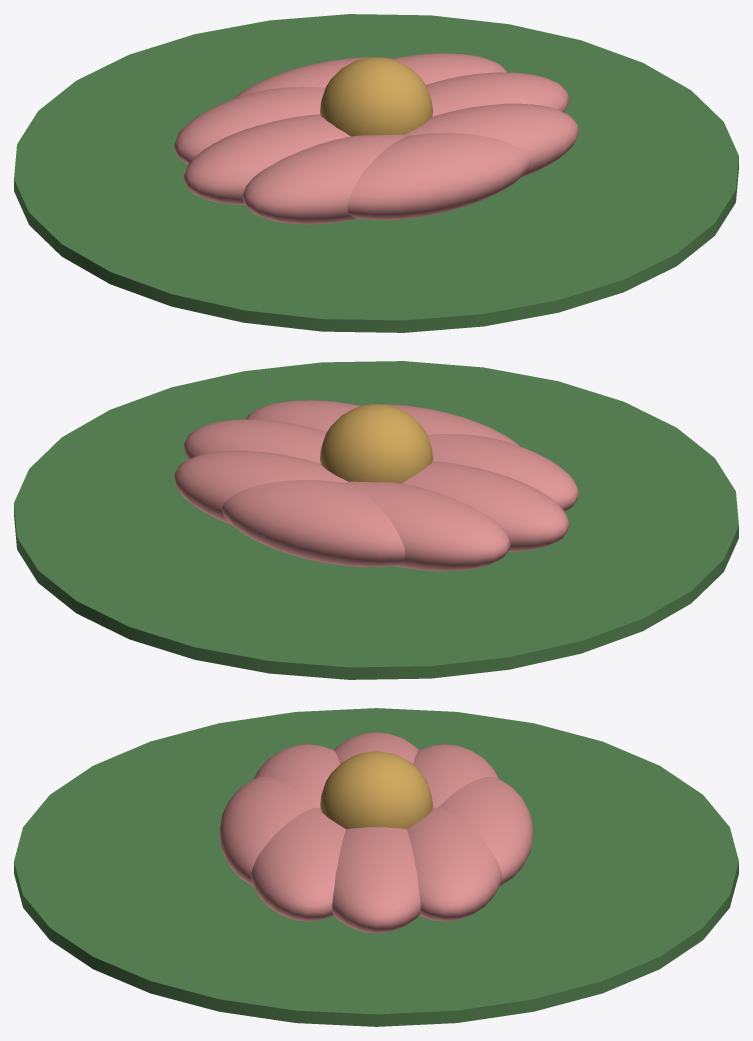
The model's file is wp-nenuphar.glb.
The picture shows the model from 3 angles, top to bottom: view 1: azimuth 30°, elevation 25°; view 2: azimuth 150°, elevation 25°; view 3: azimuth 270°, elevation 25°; orthographic projection.
Parts seen in each view (by area): view 1: wp-nenuphar; view 2: wp-nenuphar; view 3: wp-nenuphar.
Part boxes in pixels (box(x1,y1,x2,y2)): wp-nenuphar: box(14, 14, 738, 332); wp-nenuphar: box(14, 361, 738, 679); wp-nenuphar: box(14, 708, 738, 1026).
Size of the model in its own units: 0.45 by 0.08 by 0.45.
